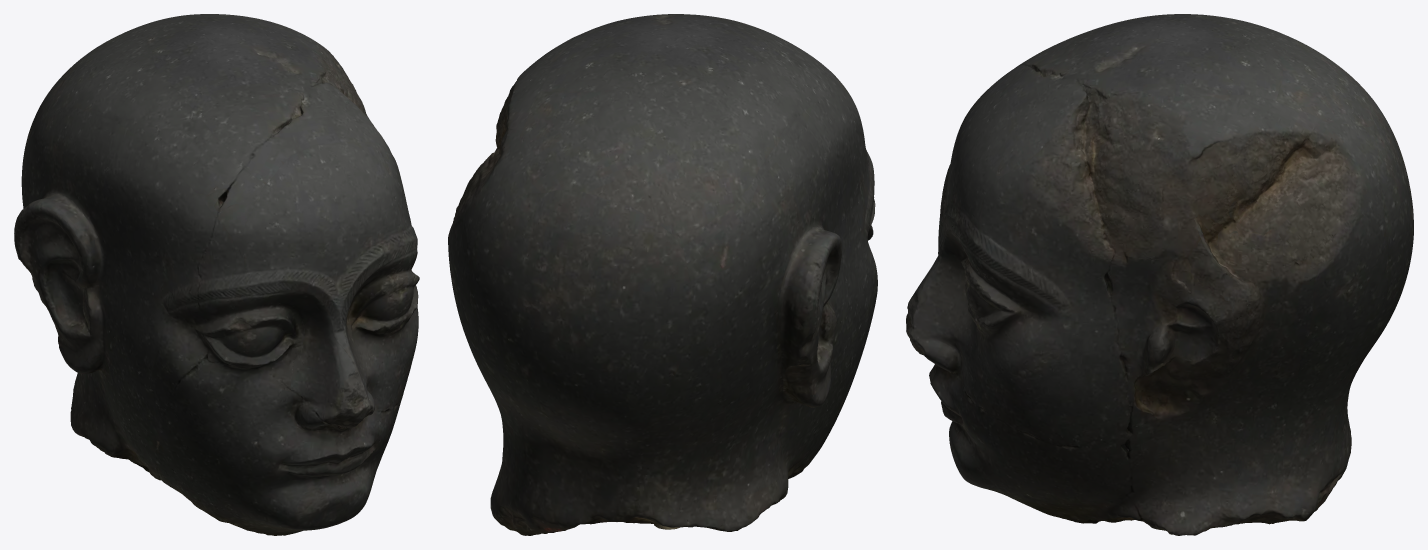
The model's file is preview.glb.
The picture shows the model from 3 angles, left to right: view 1: azimuth 30°, elevation 25°; view 2: azimuth 150°, elevation 25°; view 3: azimuth 270°, elevation 25°; orthographic projection. The views are drawn at different scales.
Parts seen in each view (by area): view 1: PG_49_26_HeadofGudea_MASTER_PG_49_26_HeadofGudea_MASTER_PG_4; view 2: PG_49_26_HeadofGudea_MASTER_PG_49_26_HeadofGudea_MASTER_PG_4; view 3: PG_49_26_HeadofGudea_MASTER_PG_49_26_HeadofGudea_MASTER_PG_4.
Boxes of the visible parts, bbox=[...] form: PG_49_26_HeadofGudea_MASTER_PG_49_26_HeadofGudea_MASTER_PG_4: bbox=[14, 14, 419, 535]; PG_49_26_HeadofGudea_MASTER_PG_49_26_HeadofGudea_MASTER_PG_4: bbox=[448, 14, 877, 535]; PG_49_26_HeadofGudea_MASTER_PG_49_26_HeadofGudea_MASTER_PG_4: bbox=[906, 14, 1413, 535].
Bounding box in the file's own units: 0.2065 × 0.265 × 0.2618.
Materials: 1 (1 with a texture image).
